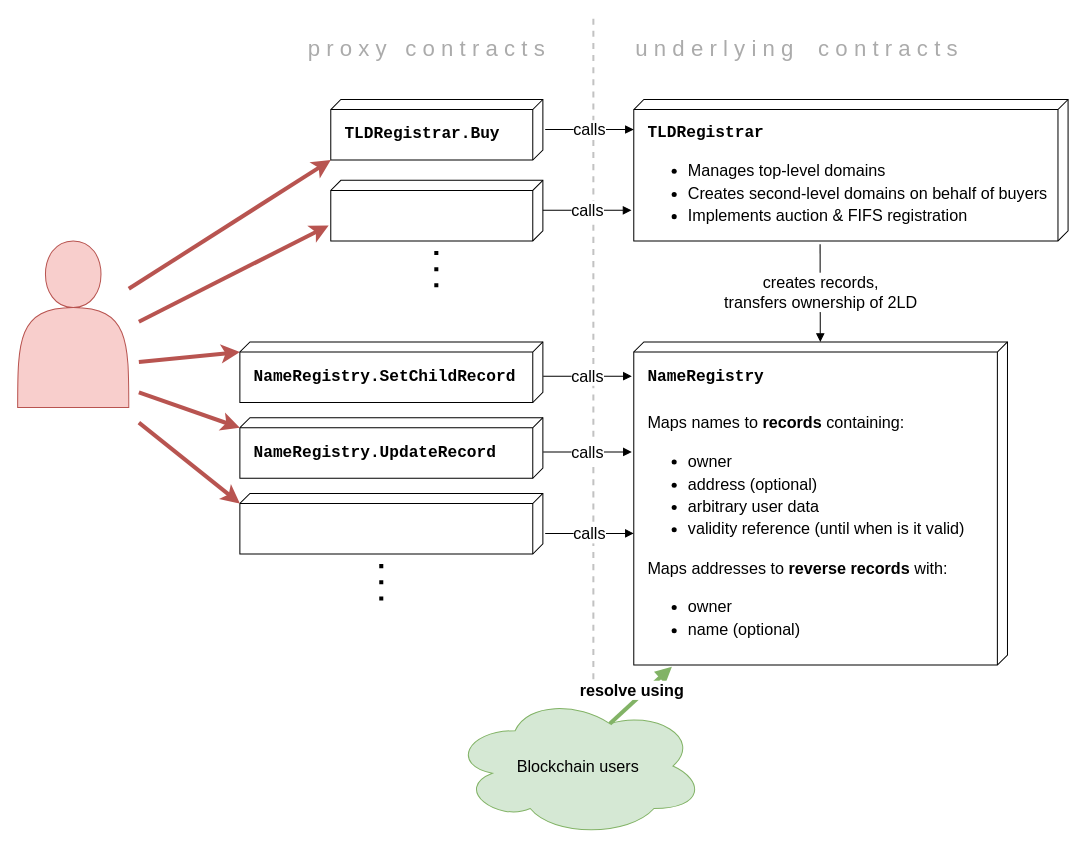
Some shapes in this 1086 by 854 pixel diagram are drawn without their labels. Each missing label, with the centre of its shape:
"DApp or contract" belongs at point 73,324.
"NameRegistry.CheckAddress" belongs at point 391,523.
"TLDRegistrar.Renew" belongs at point 436,210.
